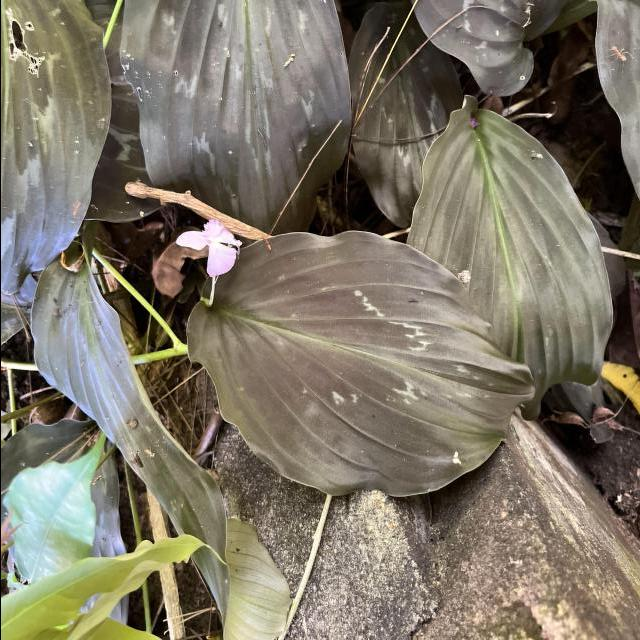Kaempferia galanga linn: (181, 225, 538, 502)
